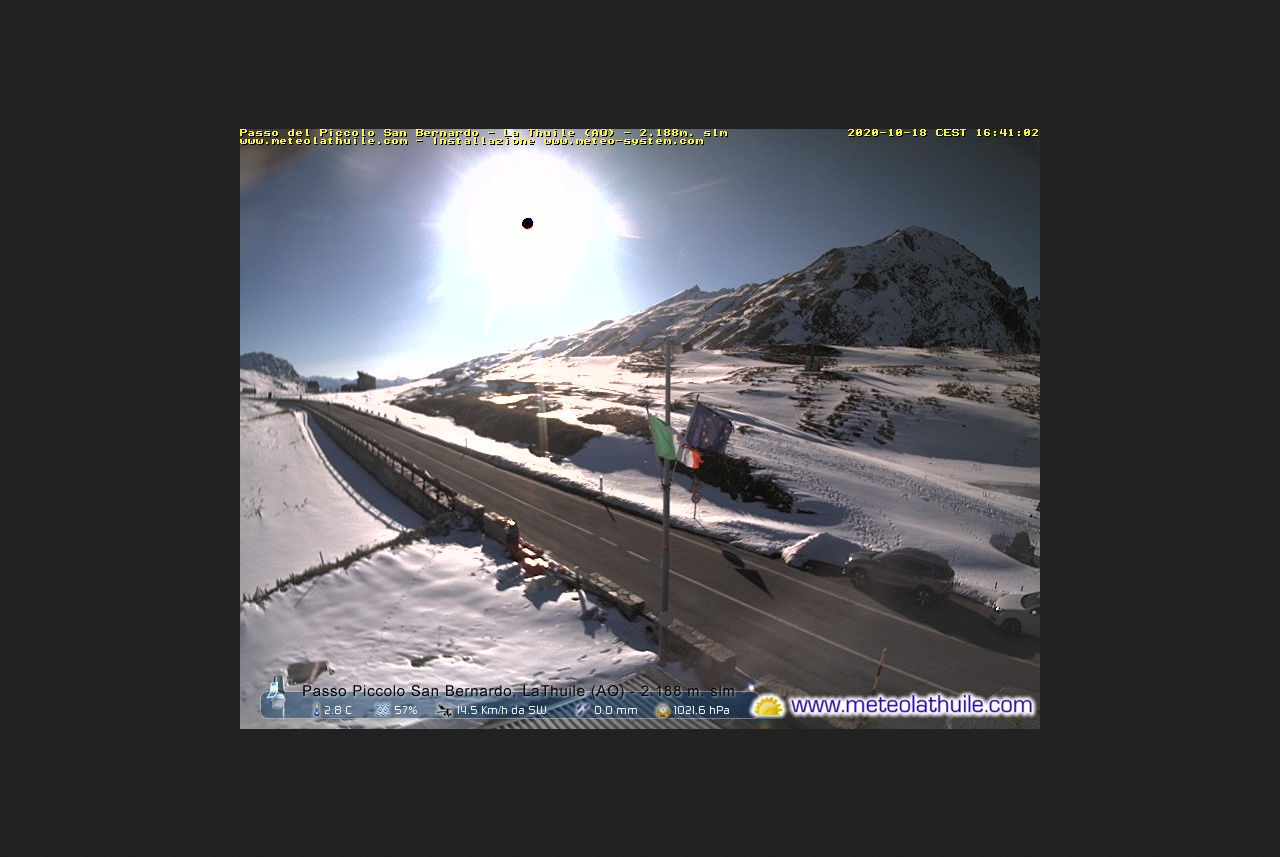yes: (645, 411, 705, 472), (683, 395, 733, 455)
